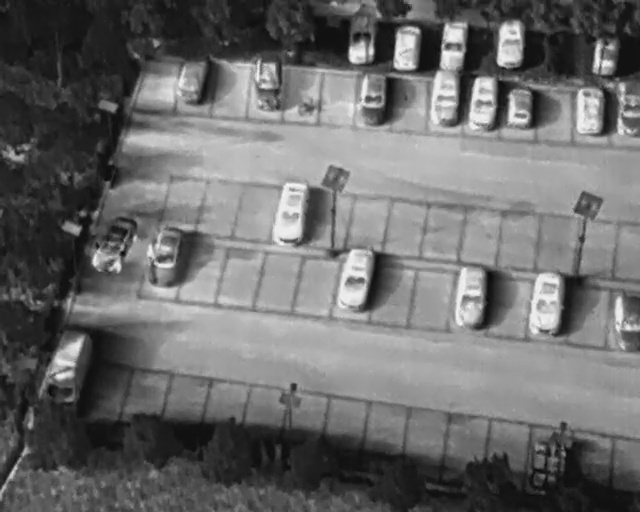Car: (85, 207, 144, 281), (331, 243, 380, 316), (268, 177, 315, 250), (525, 267, 570, 340), (142, 222, 189, 289), (453, 261, 492, 330), (172, 53, 214, 108), (465, 73, 502, 131), (358, 69, 391, 127), (437, 17, 470, 73), (613, 285, 639, 354), (253, 52, 282, 113), (431, 69, 461, 127), (494, 17, 525, 70), (390, 22, 422, 71), (504, 85, 537, 132), (575, 85, 605, 136), (347, 13, 376, 65), (590, 32, 622, 79), (617, 81, 639, 138)
OtherVehicle: (37, 324, 99, 410)
